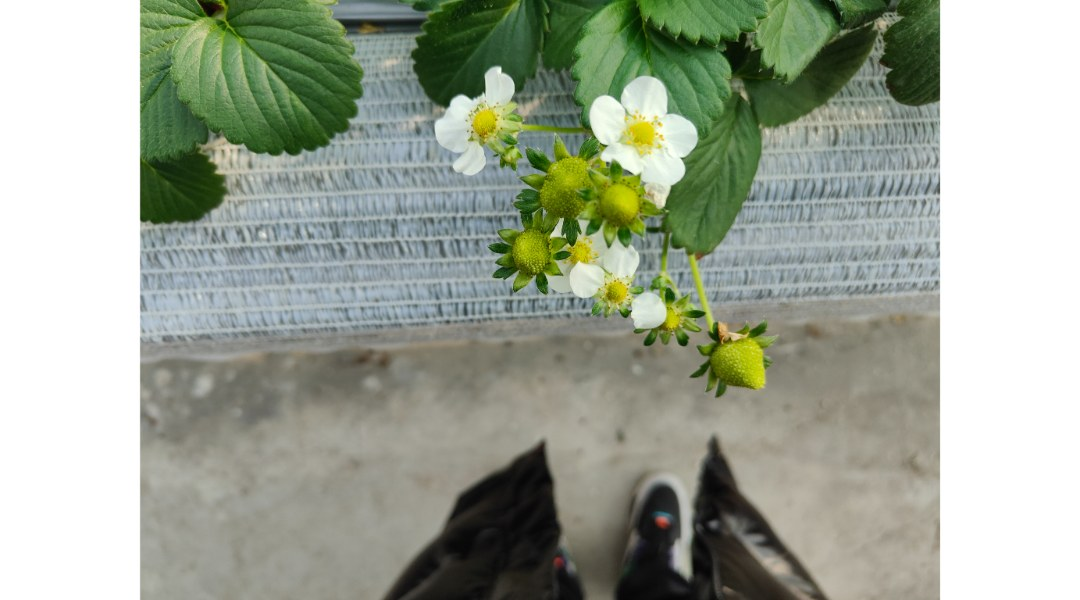berry: (478, 215, 581, 299), (702, 313, 787, 406), (515, 136, 599, 230), (591, 176, 657, 234)
flower: (581, 67, 705, 191), (424, 62, 528, 179), (553, 220, 642, 298), (627, 276, 678, 335)
strain: (689, 255, 722, 336)
